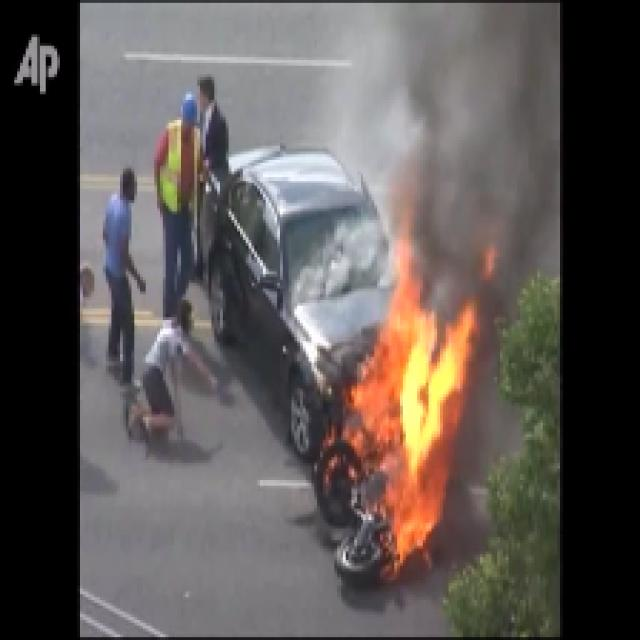fire: (356, 328, 454, 540)
smoke: (401, 37, 543, 270)
